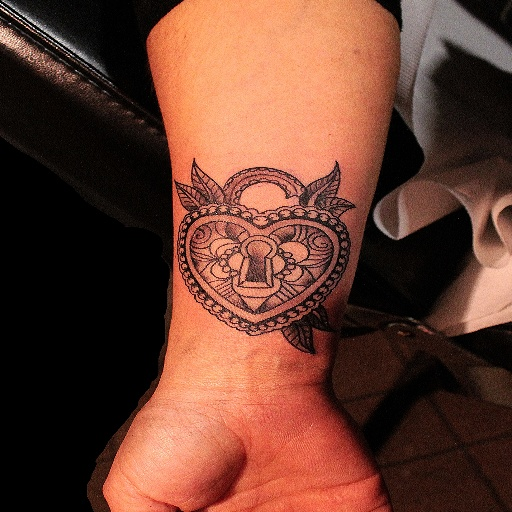hand: (98, 398, 393, 511)
